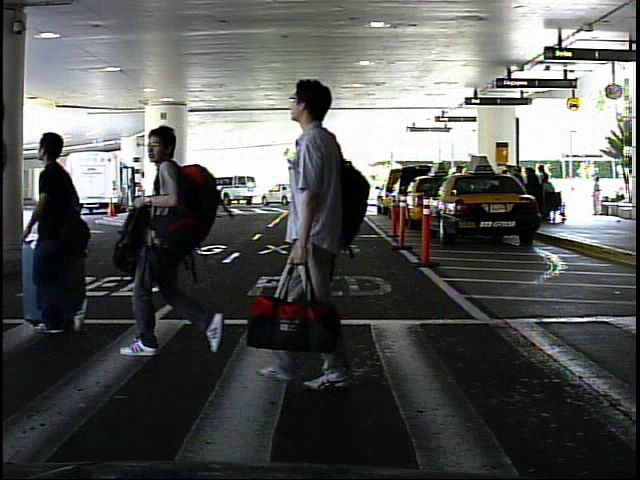person: (249, 64, 374, 395), (111, 109, 221, 364), (19, 115, 106, 354), (588, 174, 607, 219)
